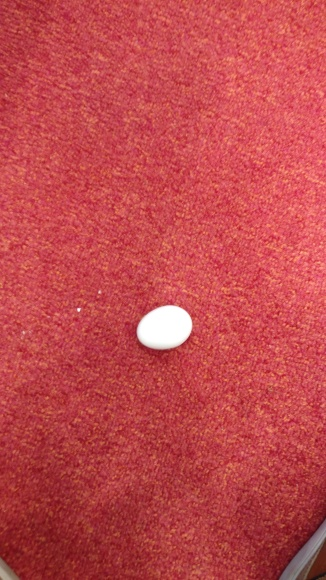egg: (135, 303, 193, 350)
